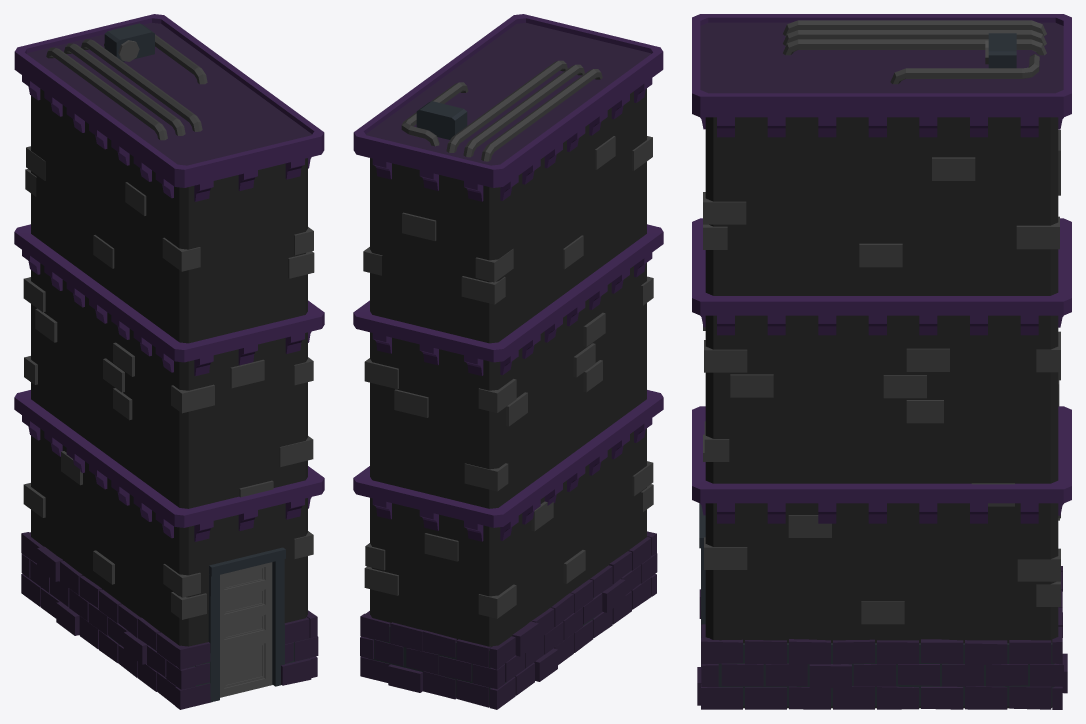
The model's file is 3Story_Slim.glb.
The picture shows the model from 3 angles, left to right: view 1: azimuth 30°, elevation 25°; view 2: azimuth 150°, elevation 25°; view 3: azimuth 270°, elevation 25°; orthographic projection. The views are drawn at different scales.
Visible parts, largest first — view 1: 3Story_Slim_Cube.126; view 2: 3Story_Slim_Cube.126; view 3: 3Story_Slim_Cube.126.
Part boxes in pixels (x1=…): 3Story_Slim_Cube.126: x1=14, y1=14, x2=324, y2=709; 3Story_Slim_Cube.126: x1=353, y1=14, x2=663, y2=709; 3Story_Slim_Cube.126: x1=692, y1=14, x2=1071, y2=709.
Bounding box in the file's own units: 1.12 × 3.99 × 2.15.
1 material, 1 textured.
